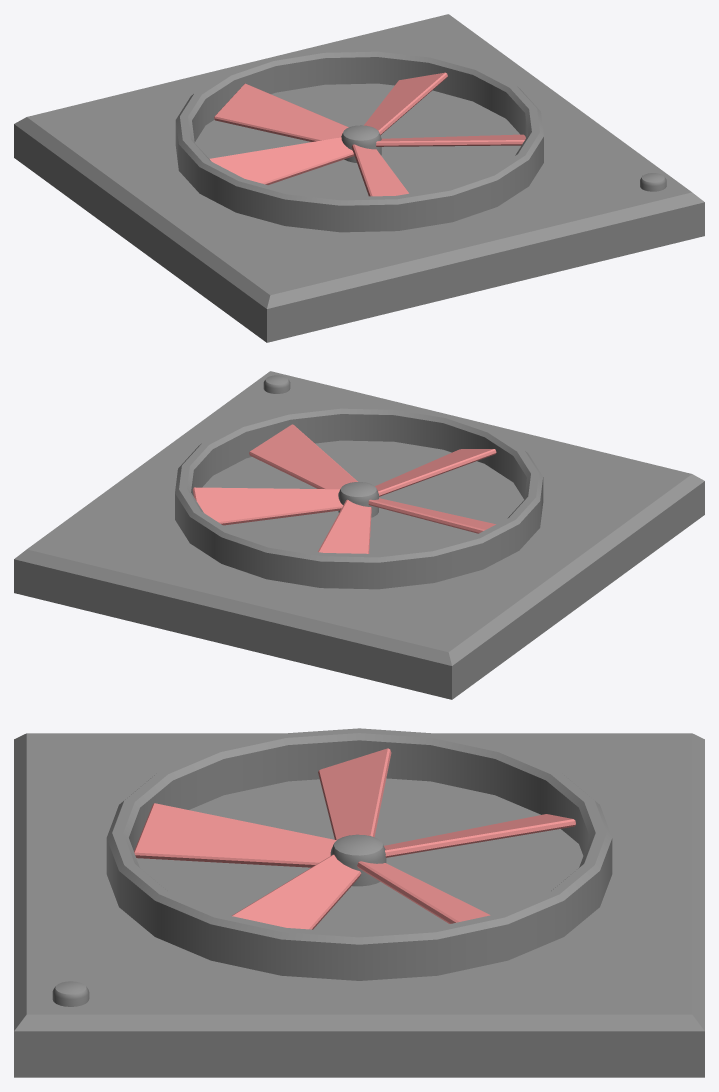
The model's file is FanBlade.fbx.
3 views of the same model, one above another, from view 1: azimuth 30°, elevation 25°; view 2: azimuth 150°, elevation 25°; view 3: azimuth 270°, elevation 25° (orthographic). The views are drawn at different scales.
Visible parts, largest first — view 1: WallFan_Mesh_FanBody, WallFan_Mesh_Blades; view 2: WallFan_Mesh_FanBody, WallFan_Mesh_Blades; view 3: WallFan_Mesh_FanBody, WallFan_Mesh_Blades.
Boxes of the visible parts, bbox=[...] form: WallFan_Mesh_FanBody: bbox=[14, 14, 704, 342]; WallFan_Mesh_Blades: bbox=[210, 72, 525, 196]; WallFan_Mesh_FanBody: bbox=[14, 371, 704, 699]; WallFan_Mesh_Blades: bbox=[192, 424, 496, 553]; WallFan_Mesh_FanBody: bbox=[14, 728, 704, 1077]; WallFan_Mesh_Blades: bbox=[134, 748, 575, 929].
Size of the model in its own units: 117 by 18.48 by 117.
